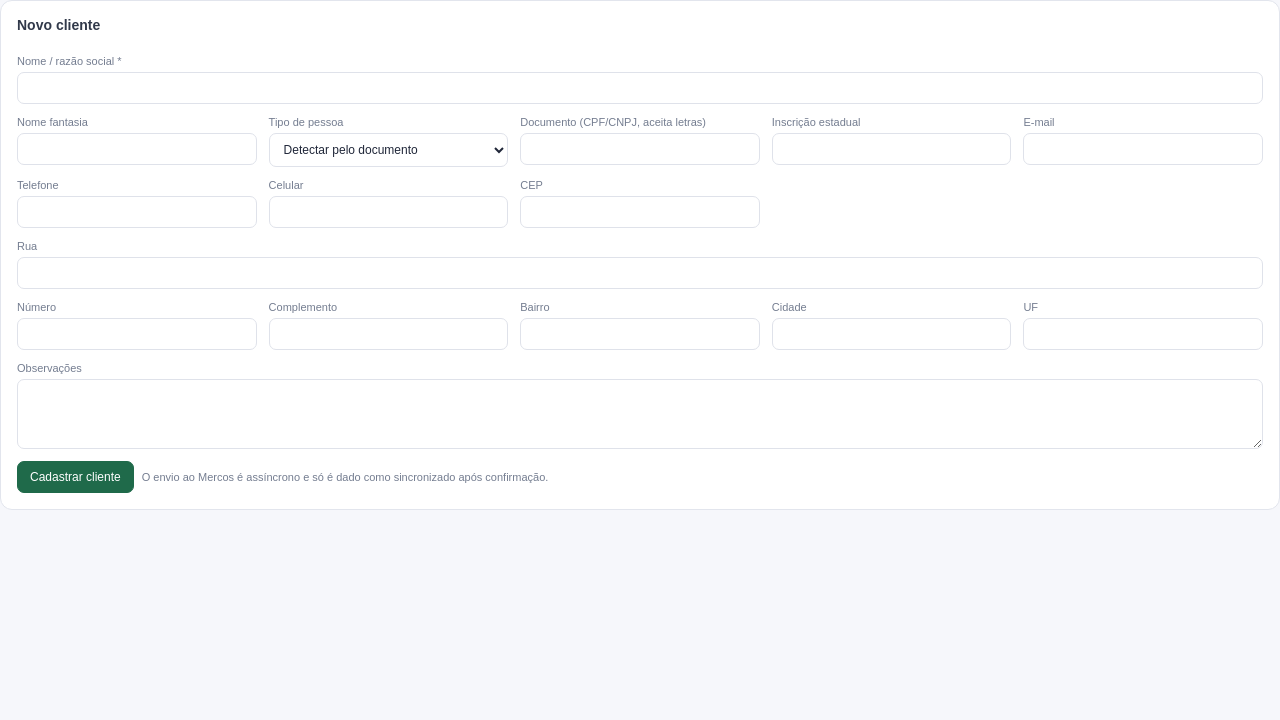
Test: cadastro novo envia só preenchidos e preserva documento alfanumérico
Type "Novo Cliente" into the field labelled "Nome / razão social *" at (640, 88), box x1=17 y1=72 x2=1263 y2=104
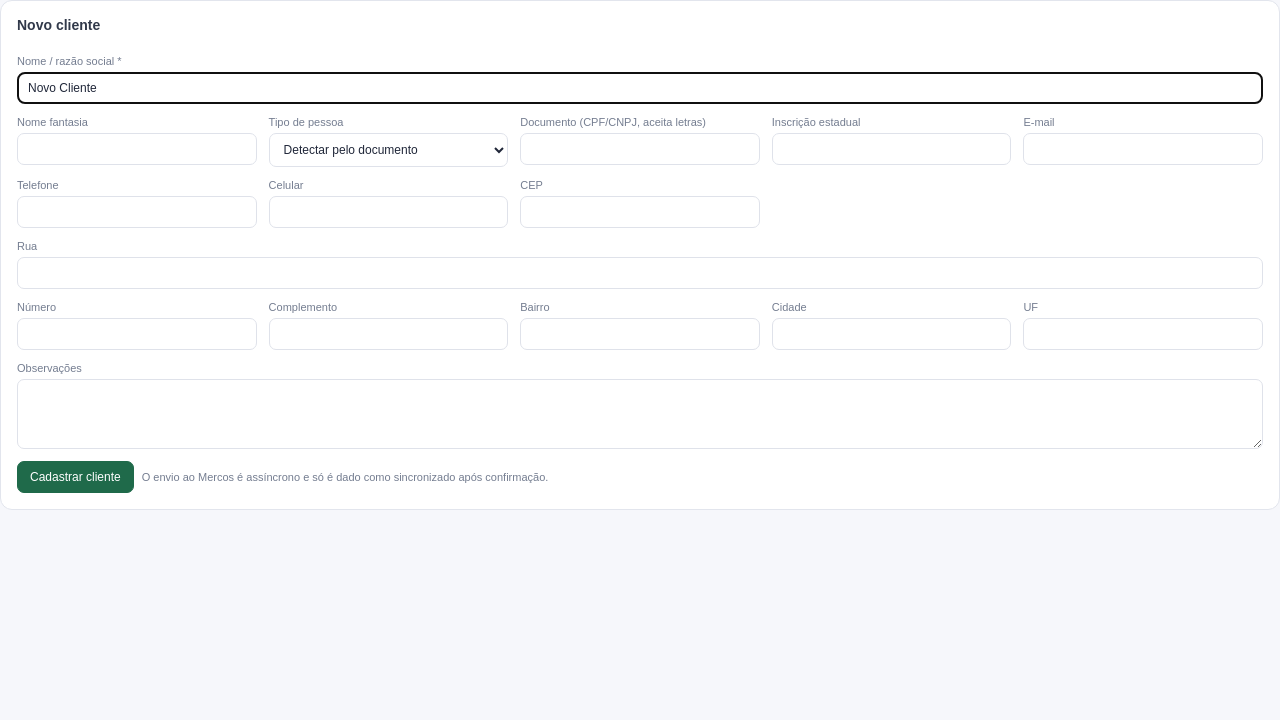
Type "AB12CD34000199" into the field labelled "Documento (CPF/CNPJ, aceita letras)" at (640, 149), box x1=520 y1=133 x2=760 y2=165
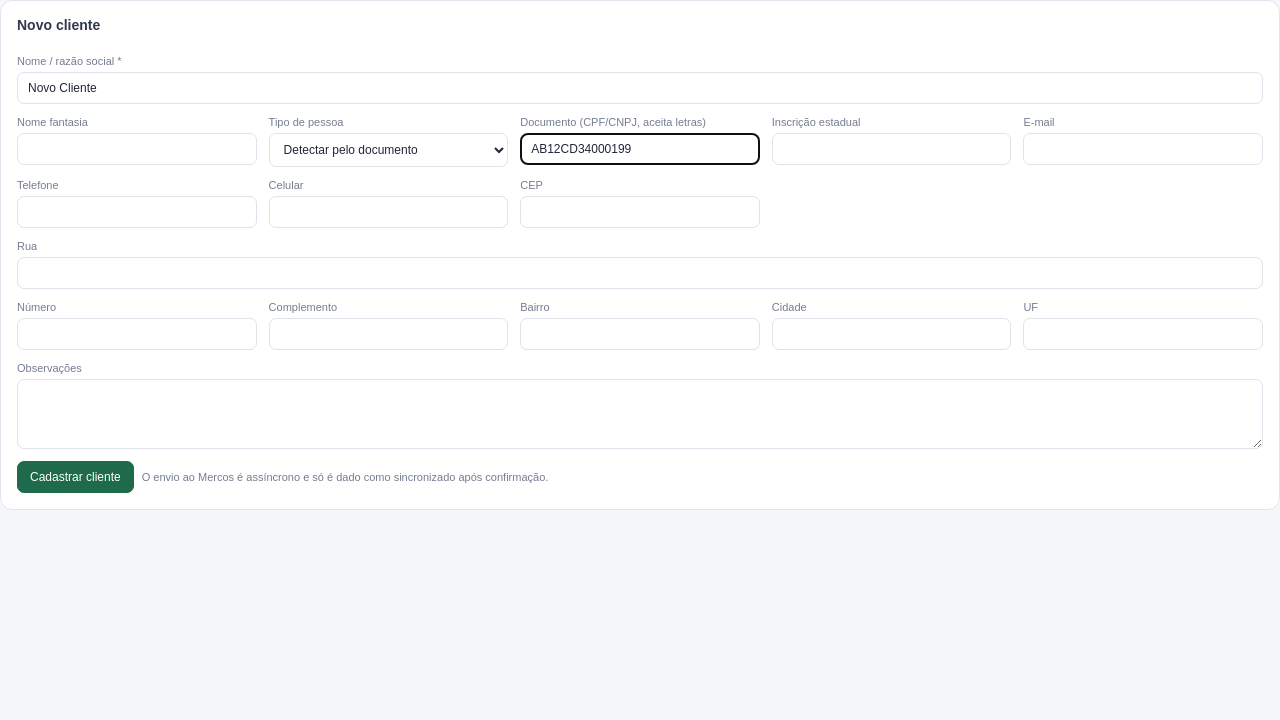
Click the button "Cadastrar cliente" at (75, 477), box x1=17 y1=461 x2=134 y2=493
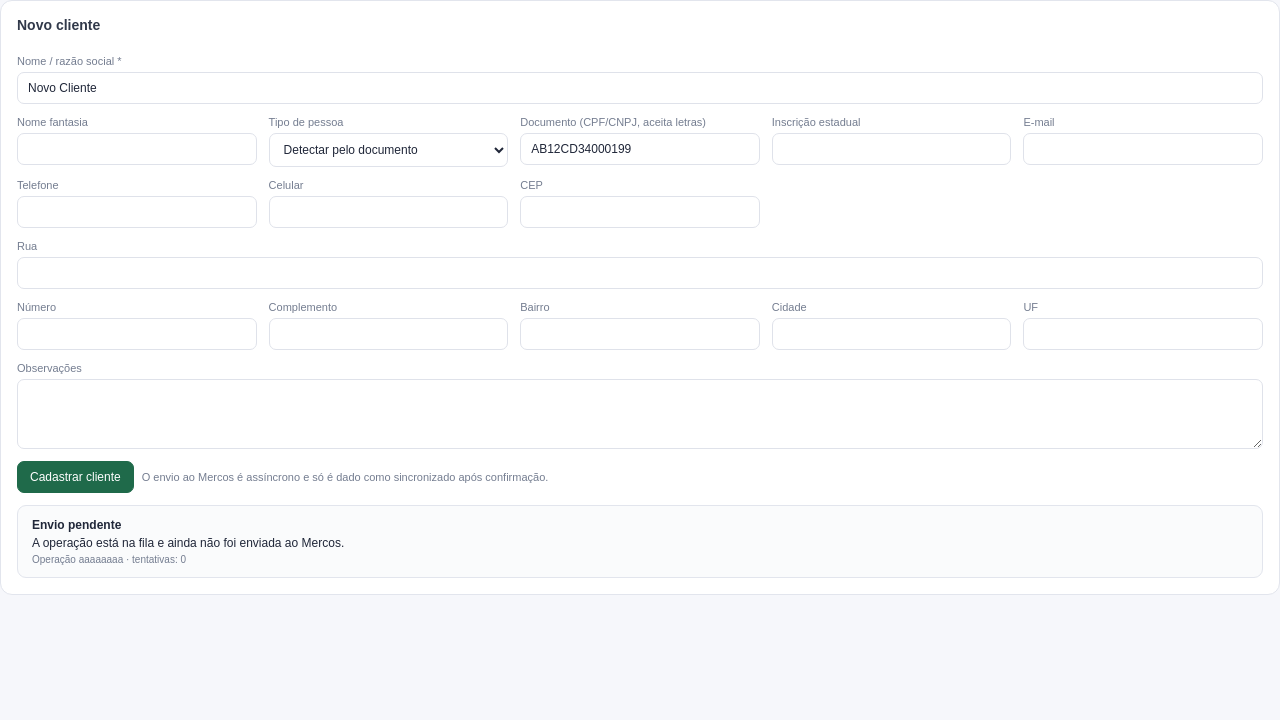
Expected: the text "Envio pendente" is shown, x1=32 y1=518 x2=121 y2=532
